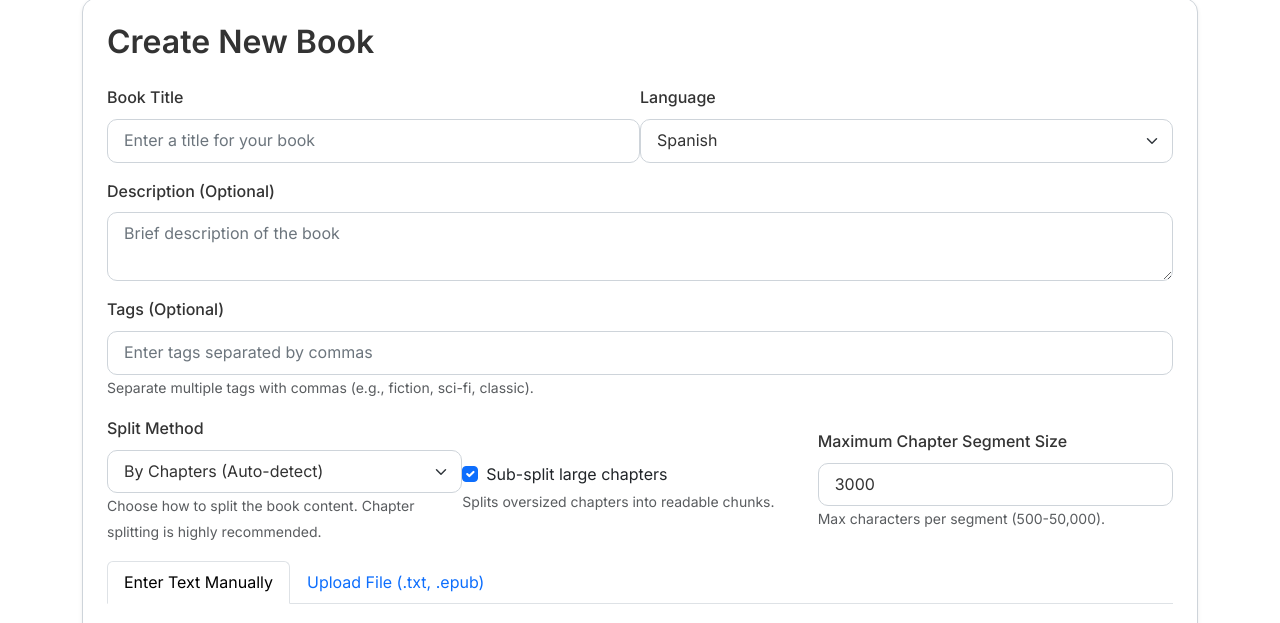
it: BookCreate › surfaces an error when createBook rejects
This screenshot has width=1280, height=623.
Type "X" into the field labelled "Book Title" at (374, 141), box [107,119,640,163]
(page scrolled)
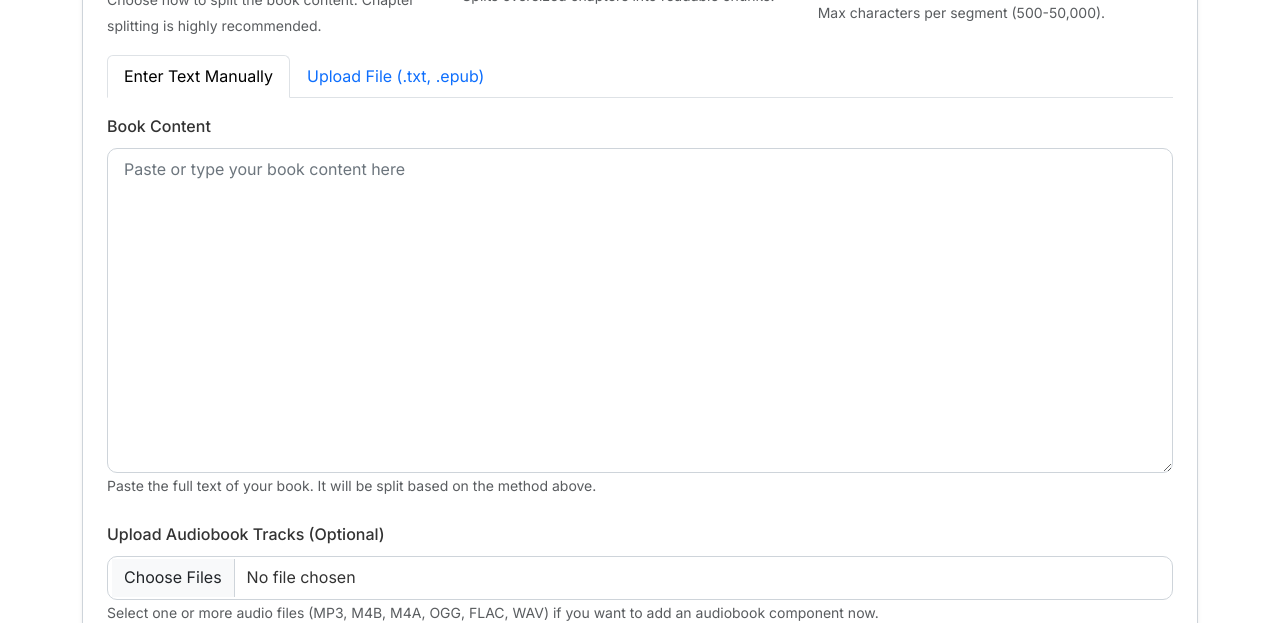
Type "Y" into the text box labelled "Book Content" at (640, 310), box [107,148,1173,473]
(page scrolled)
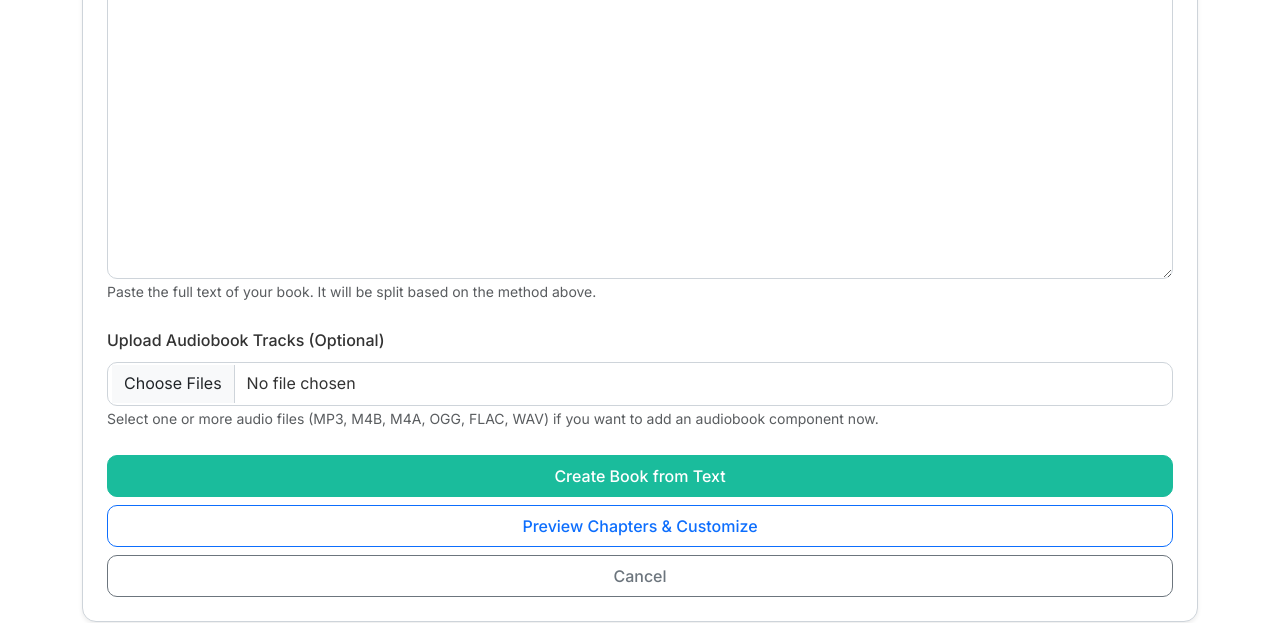
Click the button "Create Book from Text" at (640, 476), box [107,455,1173,497]
(page scrolled)
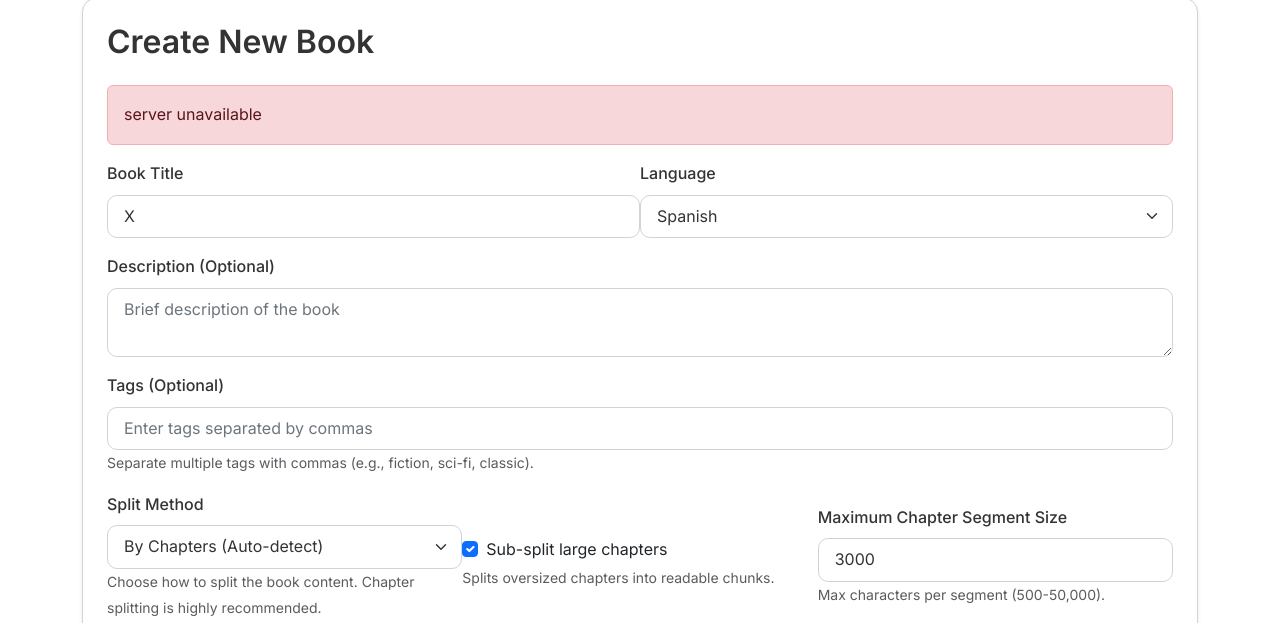
Now the text "server unavailable" is shown, box [107,85,1173,145]
